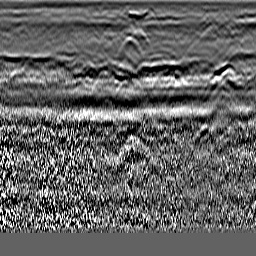cavity: (116, 34, 140, 59)
